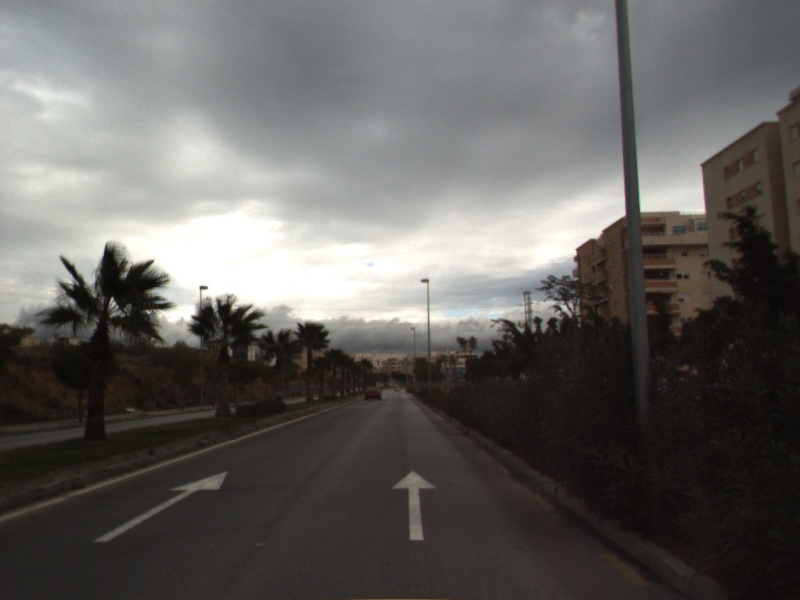STRAIGHT: (91, 469, 230, 544), (390, 468, 438, 542)
